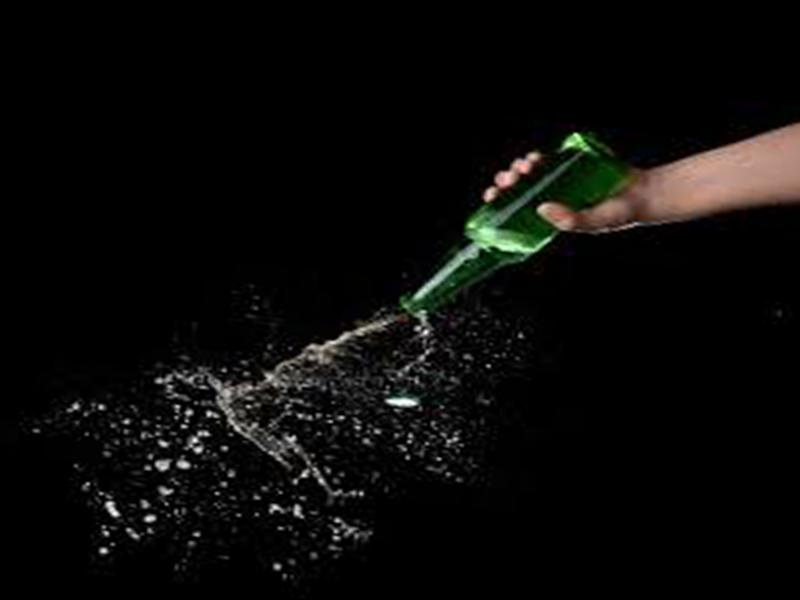Beer: (401, 109, 641, 340)
